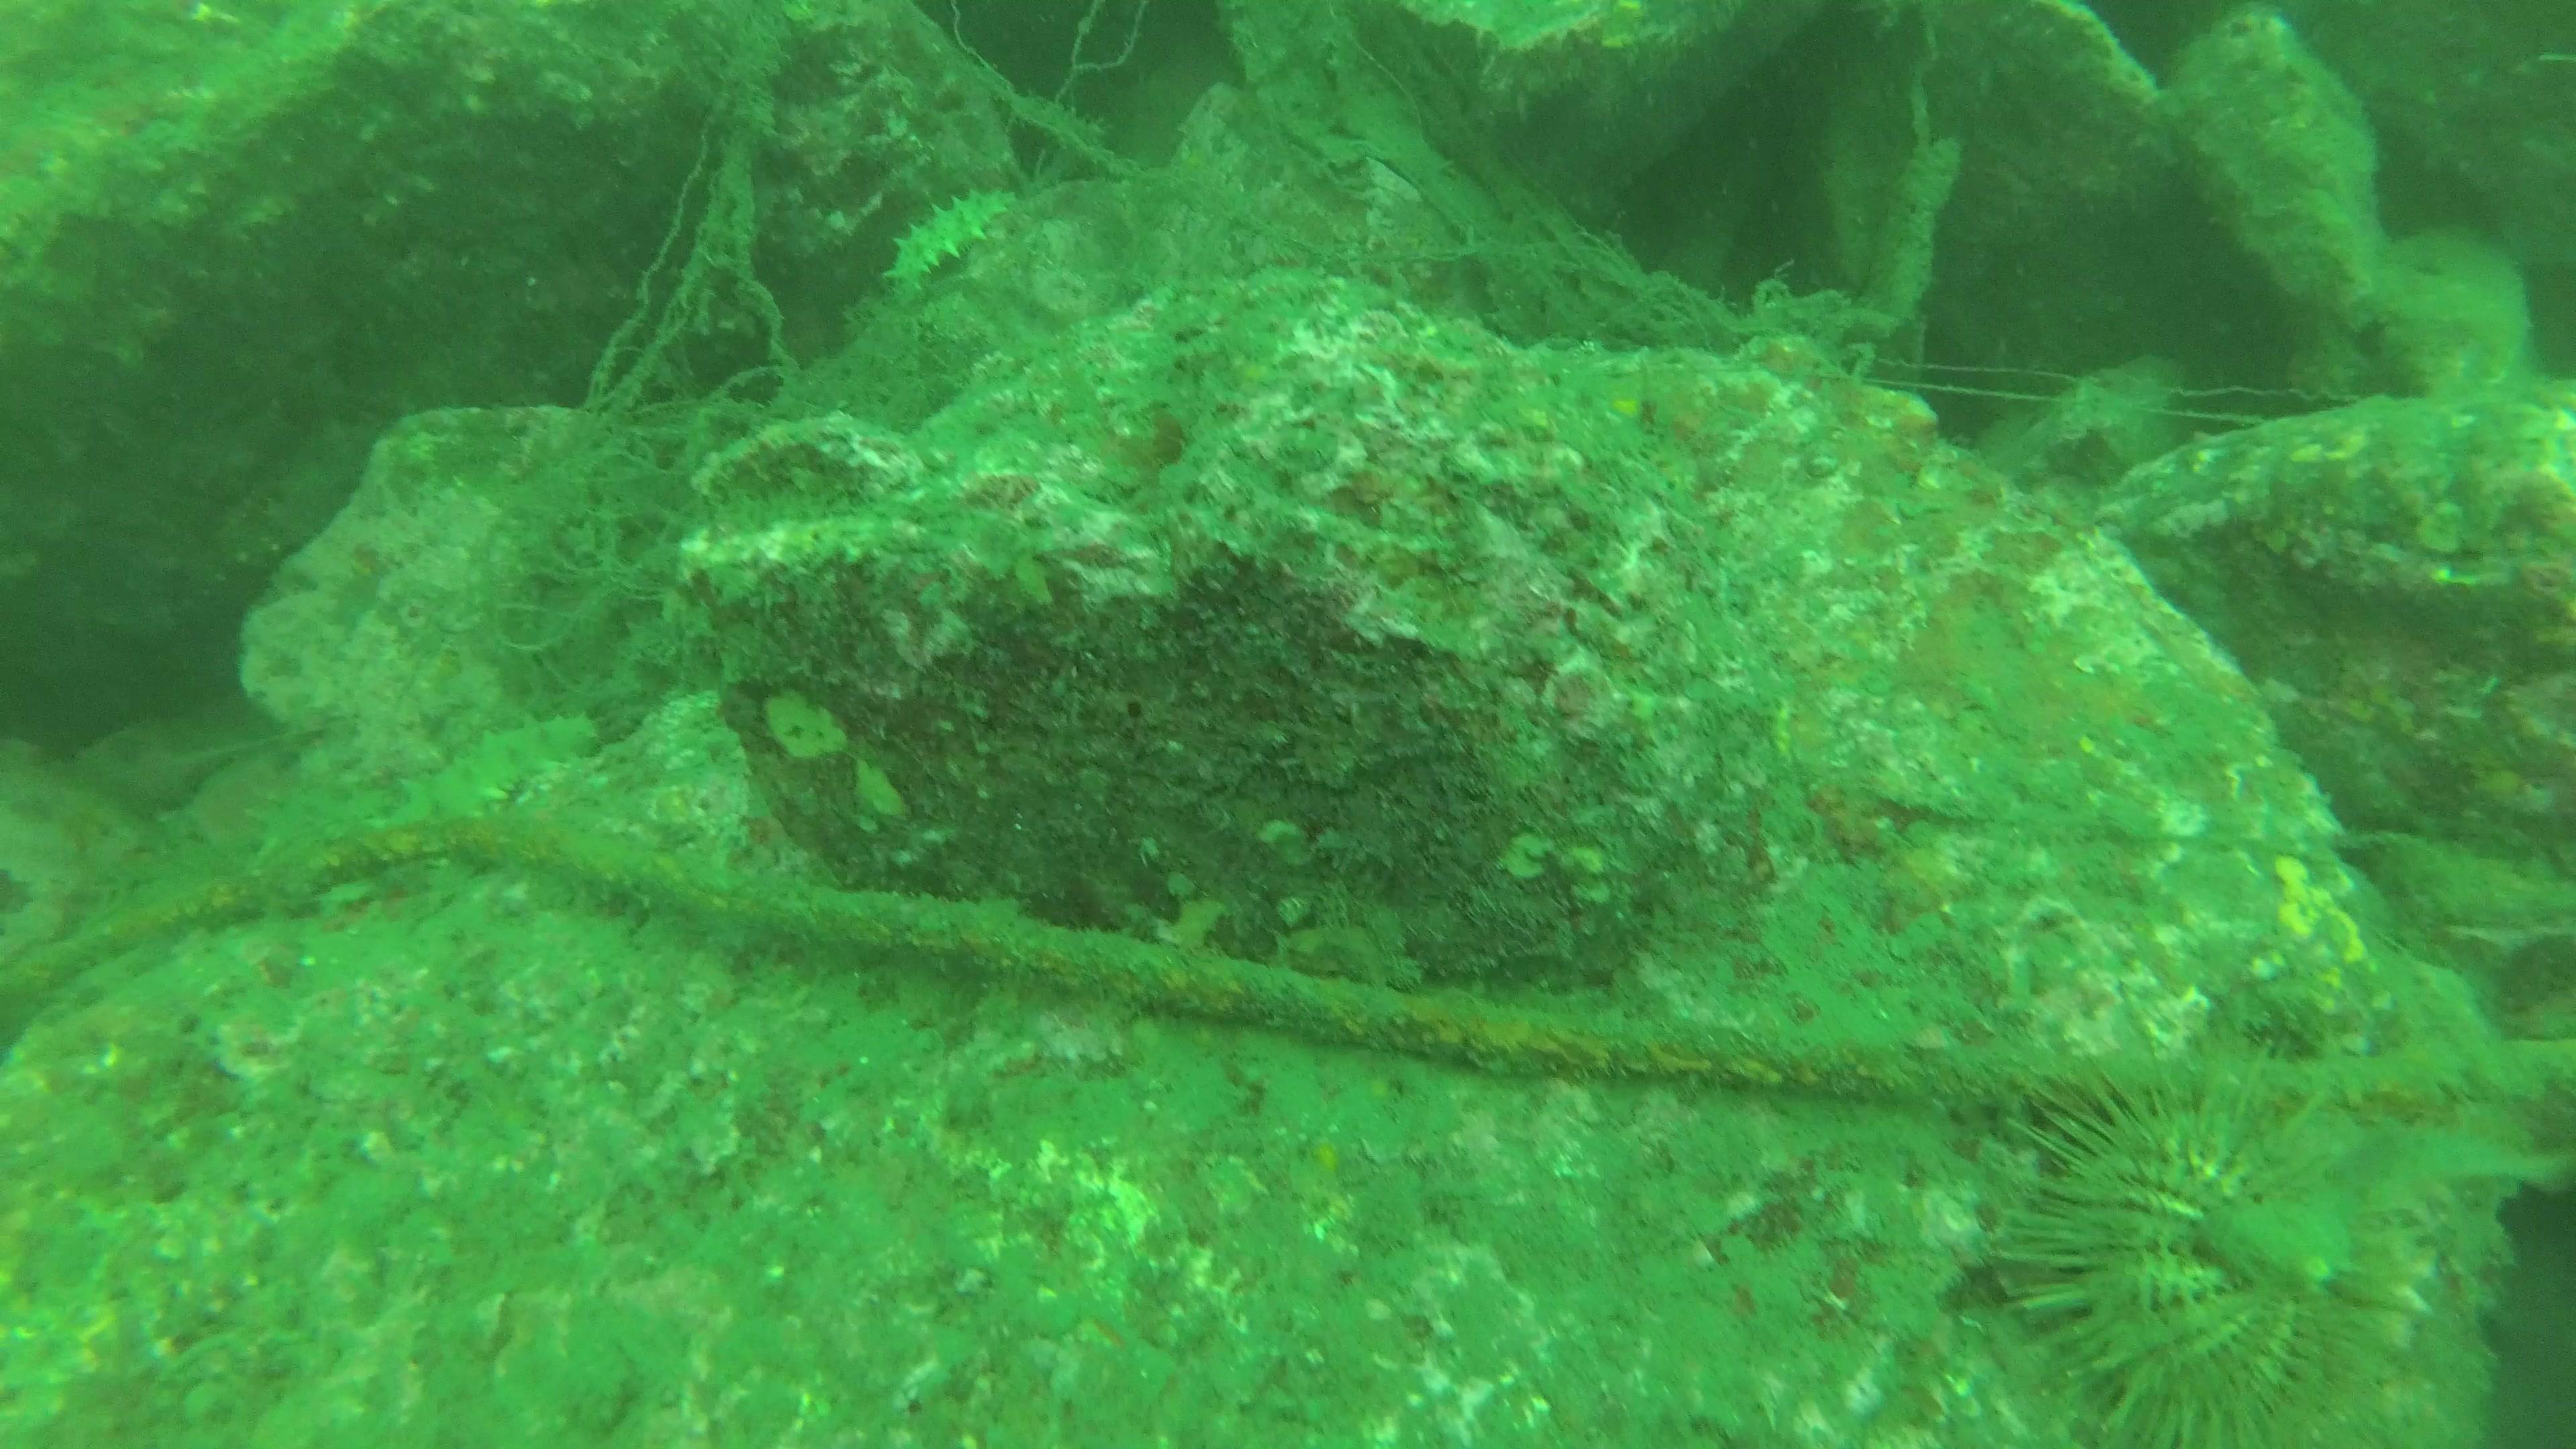echinus: (1999, 1021, 2427, 1449)
holothurian: (885, 188, 1021, 297)
